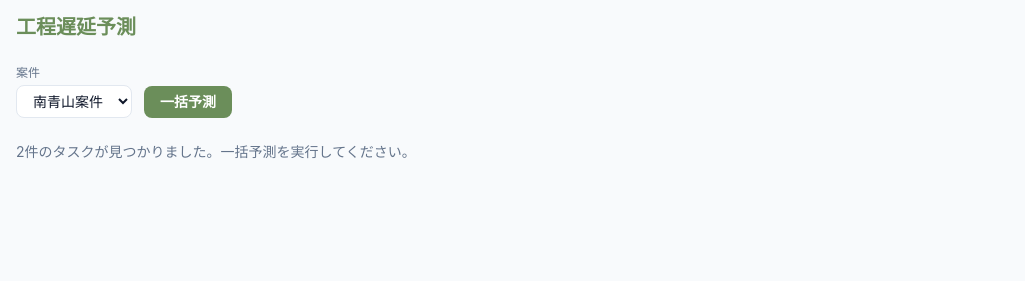
Scenario: DelayPredictionPage — フィルタ機能 › critical/high のみトグルで表示件数が変わる
This screenshot has width=1025, height=281.
Later steps or results of the test are not shown.
Click the button with test id "predict-btn".
click(188, 102)  # box [144,86,232,118]
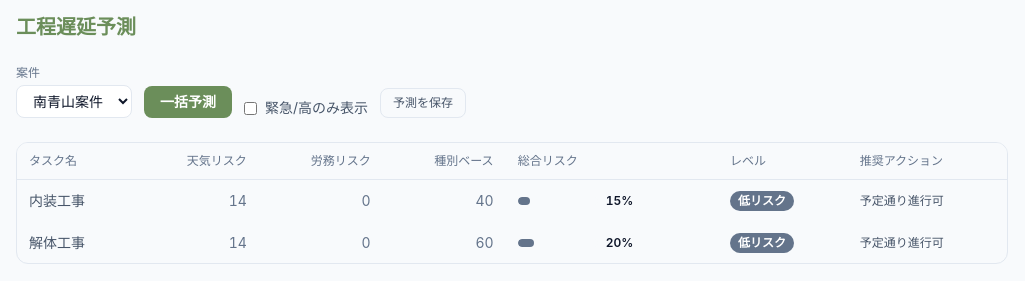
Check: the checkbox with test id "critical-high-toggle" is shown, box [244,102,257,114]
